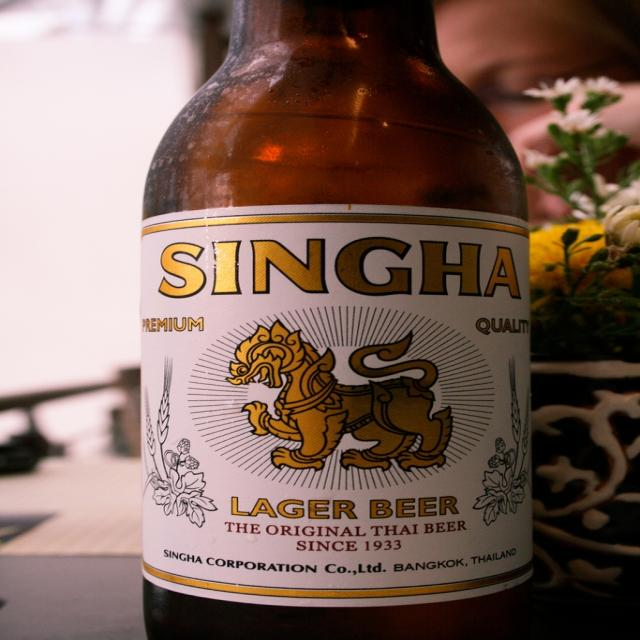singha: (142, 212, 534, 598)
